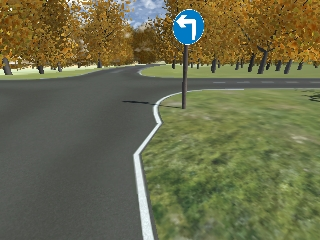left: (173, 7, 204, 44)
